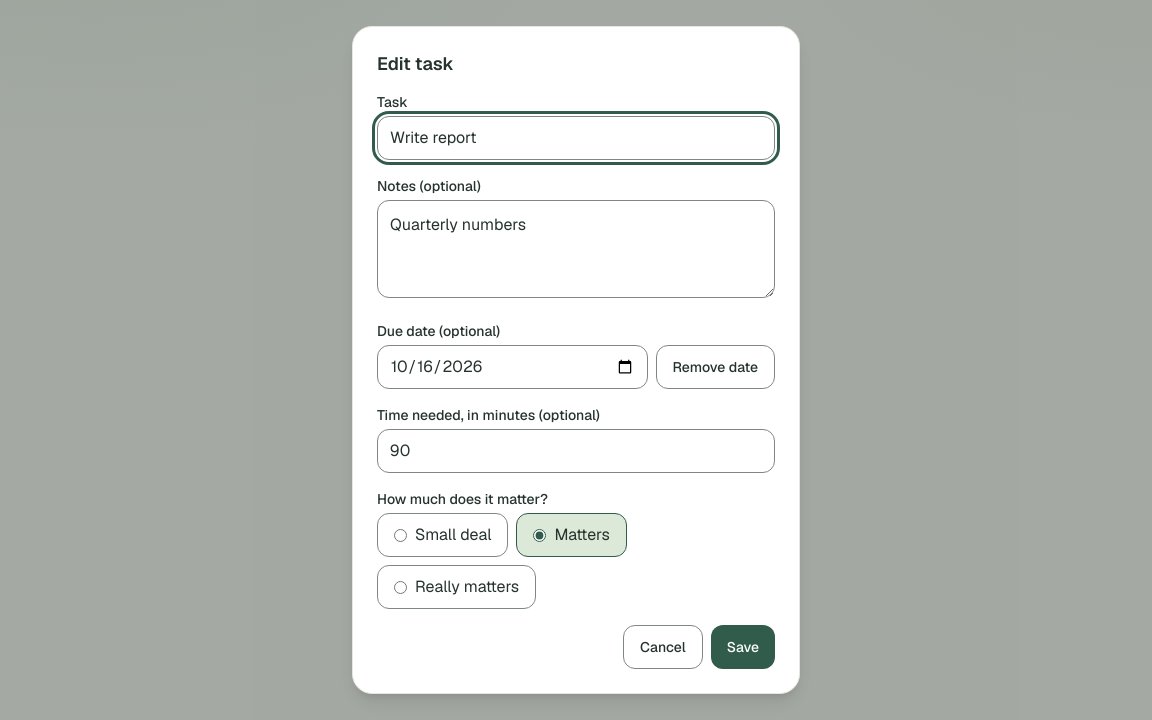
Test: EditTaskDialog › only offers 'Remove date' when there is a date
This screenshot has width=1152, height=720.
Click the button "Remove date". click: x=715, y=367
box: top-left (656, 345), bottom-right (775, 389)
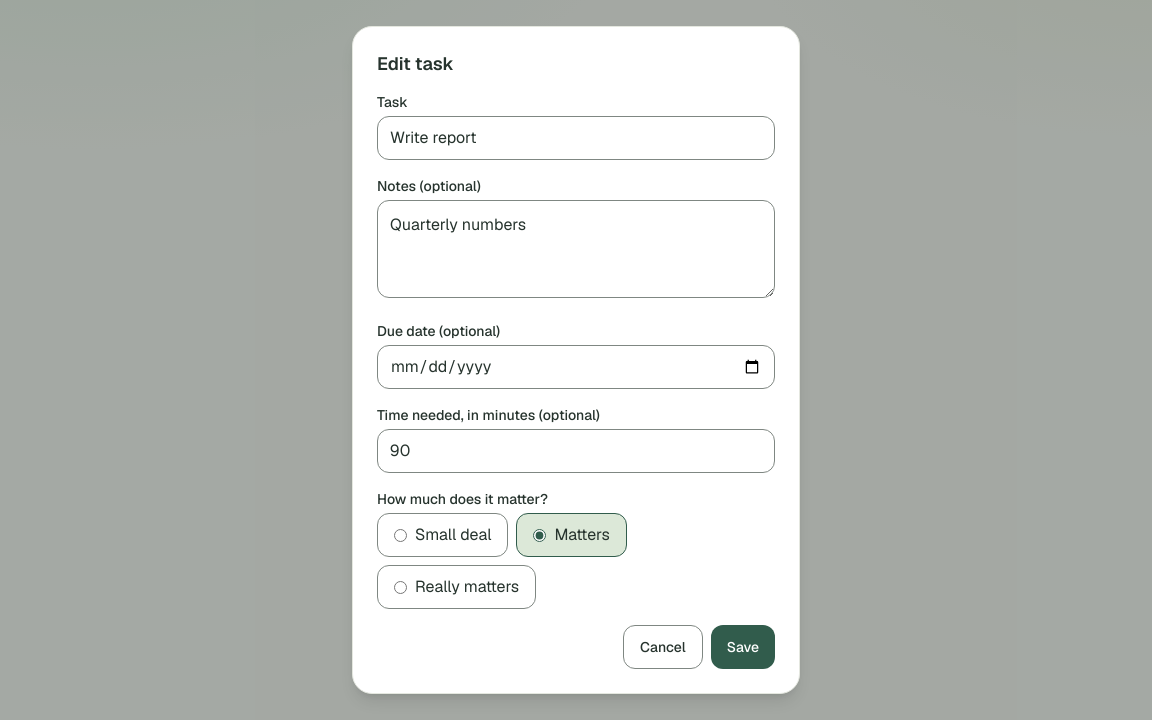
Check: the date field labelled "Due date (optional)" is empty, box top-left (377, 345), bottom-right (775, 389)
Check: the button "Remove date" is gone
